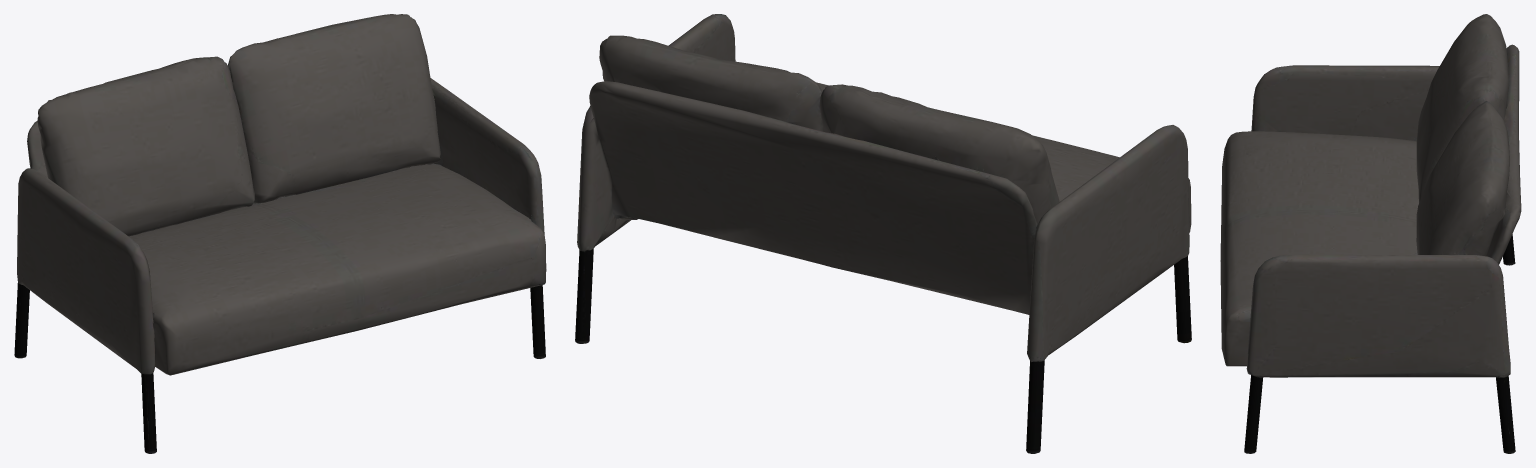
File: glostad-sofa-de-2-plazas-knisa-gris-oscuro.glb
3 views of the same model, side by side, from view 1: azimuth 30°, elevation 25°; view 2: azimuth 150°, elevation 25°; view 3: azimuth 270°, elevation 25° (orthographic). The views are drawn at different scales.
Visible parts, largest first — view 1: model; view 2: model; view 3: model.
Part boxes in pixels (<box>): model: <box>14,14,546,453</box>; model: <box>575,14,1191,453</box>; model: <box>1220,14,1521,453</box>.
Bounding box in the file's own units: 1.23 × 0.7658 × 0.7943.
Materials: 1 (1 with a texture image).
